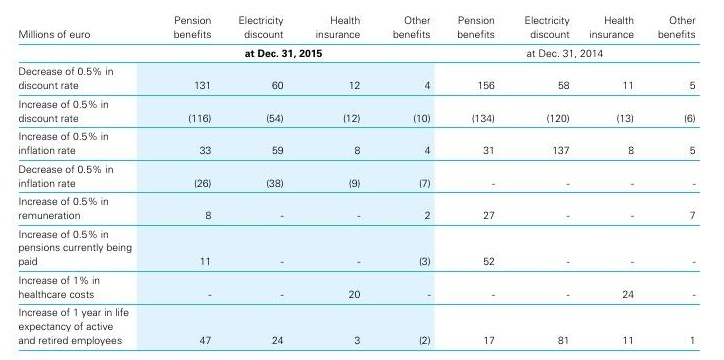table: (0, 0, 724, 360)
